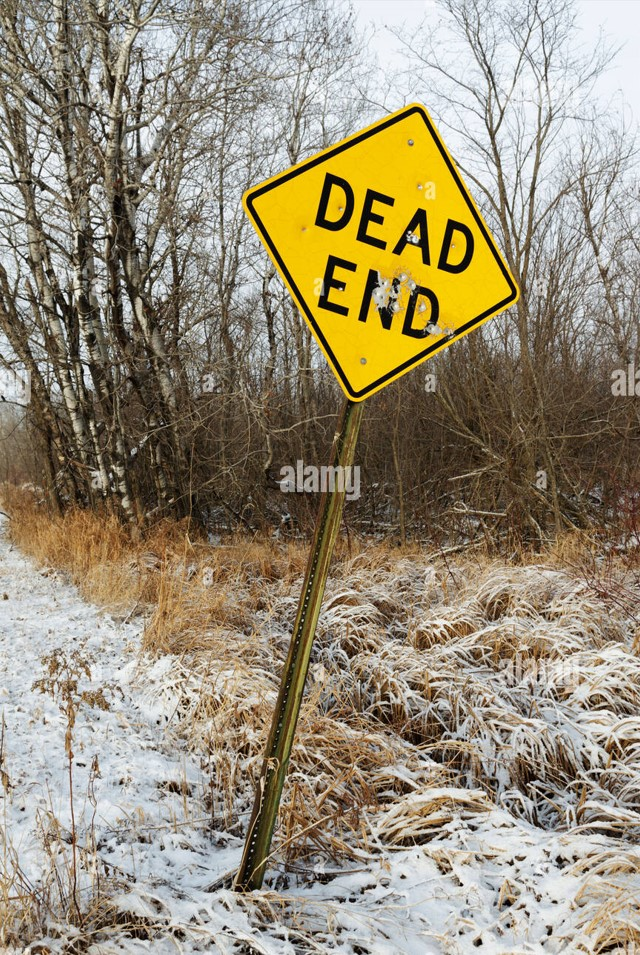Deadend: (240, 100, 521, 403)
